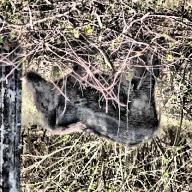boar: (26, 38, 167, 147)
